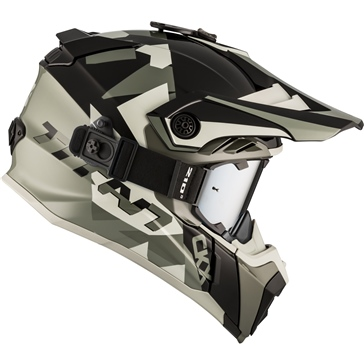with_helmet: (2, 16, 364, 349)
